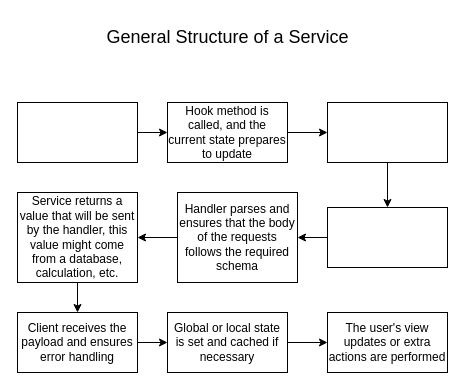
Some shapes in this 465 by 390 pixel diagram are drawn without their labels. The shapes that lost their labels are listed below. From the top down, each one's centre as x and y in pixels, then its label:
the point at 77,132: User performs action
the point at 387,132: API service sends a requests depending on the action that is needed
the point at 387,237: Router redirects the requests to the corresponding handler
